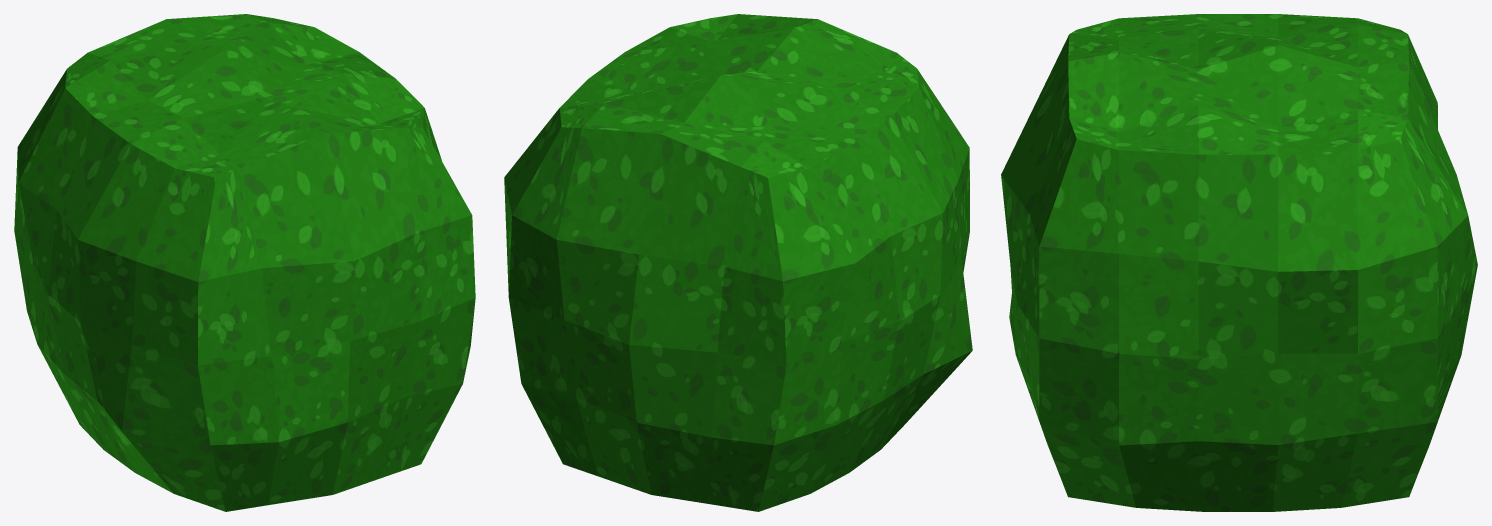
Rendered from bush.fbx.
3 views of the same model, side by side, from view 1: azimuth 30°, elevation 25°; view 2: azimuth 150°, elevation 25°; view 3: azimuth 270°, elevation 25° (orthographic). The views are drawn at different scales.
Parts seen in each view (by area): view 1: Cube; view 2: Cube; view 3: Cube.
Boxes of the visible parts, bbox=[...] form: Cube: bbox=[14, 14, 475, 511]; Cube: bbox=[504, 14, 972, 511]; Cube: bbox=[1001, 14, 1477, 511].
Size of the model in its own units: 232 by 222 by 239.
Materials: 1 (1 with a texture image).
